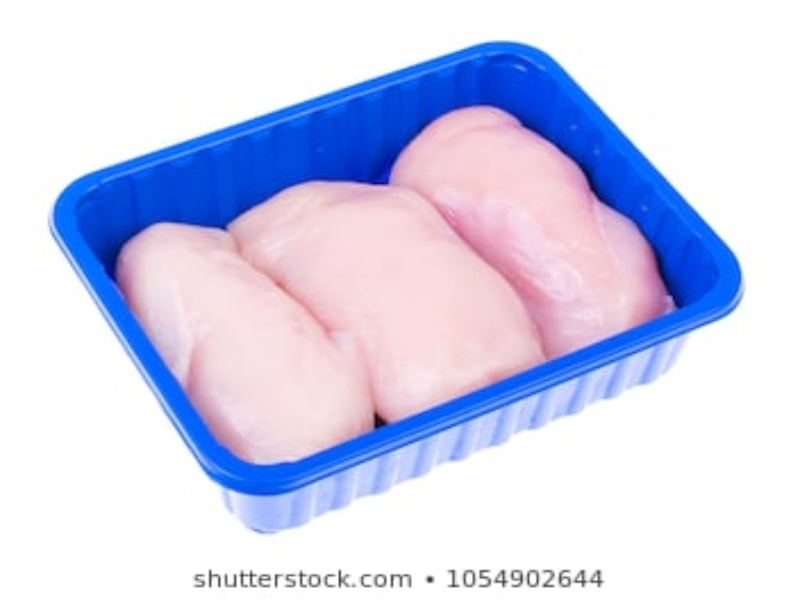plastic-tray: (48, 37, 749, 538)
